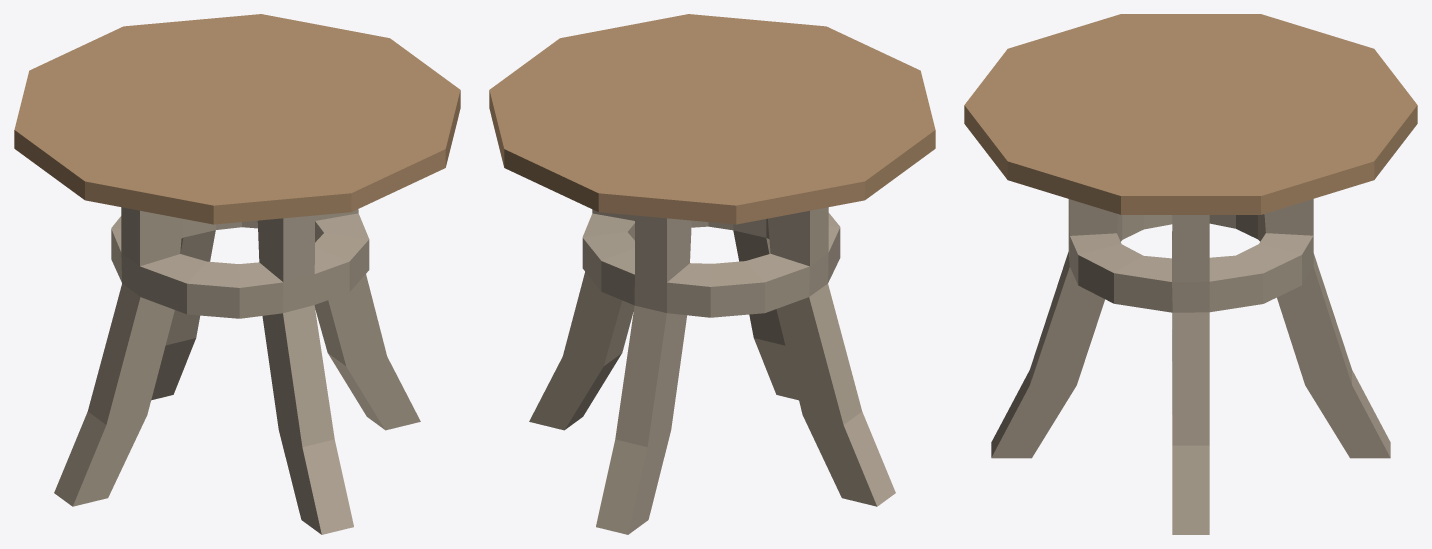
Rendered from Mesa3.glb.
3 renders of one model, left to right at view 1: azimuth 30°, elevation 25°; view 2: azimuth 150°, elevation 25°; view 3: azimuth 270°, elevation 25°, orthographic.
Parts seen in each view (by area): view 1: Cilindro, Cube.001; view 2: Cilindro, Cube.001; view 3: Cilindro, Cube.001.
Boxes of the visible parts, <box> form: Cilindro: <box>14,14,460,224</box>; Cube.001: <box>54,207,420,534</box>; Cilindro: <box>489,14,935,224</box>; Cube.001: <box>529,207,895,534</box>; Cilindro: <box>964,14,1417,214</box>; Cube.001: <box>991,199,1390,534</box>.
Bounding box in the file's own units: 4.12 × 3.64 × 4.33.
